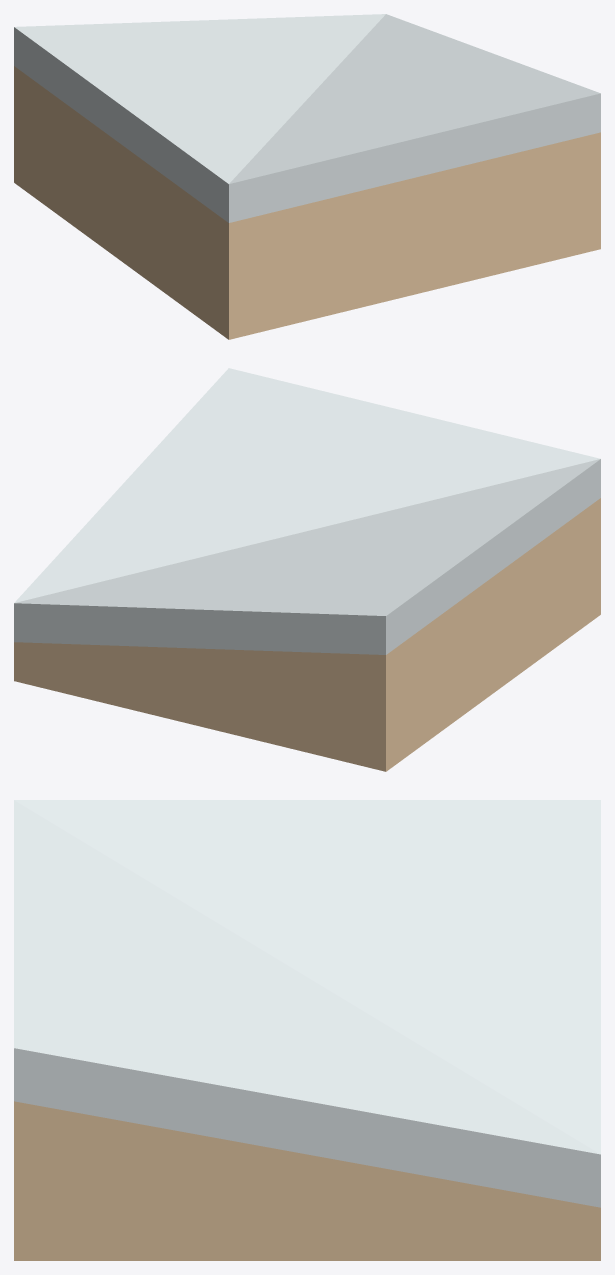
File: snow_tile_cornerInner.glb
3 renders of one model, top to bottom at view 1: azimuth 30°, elevation 25°; view 2: azimuth 150°, elevation 25°; view 3: azimuth 270°, elevation 25°, orthographic. The views are drawn at different scales.
Parts seen in each view (by area): view 1: snow_tile_cornerInner; view 2: snow_tile_cornerInner; view 3: snow_tile_cornerInner.
Boxes of the visible parts, box(x1,y1,x2,y2) form: snow_tile_cornerInner: box(14, 14, 600, 339); snow_tile_cornerInner: box(14, 368, 600, 771); snow_tile_cornerInner: box(14, 800, 600, 1260).
Size of the model in its own units: 1 by 0.4 by 1.
